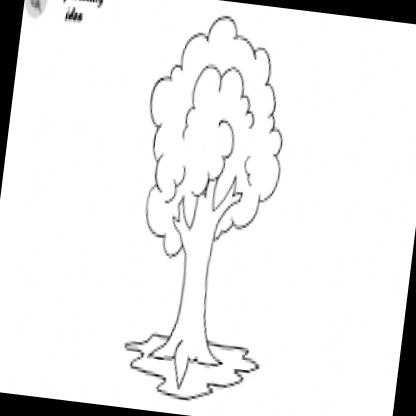branch_cut: (169, 173, 243, 257)
crown_cloud: (132, 7, 297, 266)
root_upside: (142, 324, 228, 412)
trunk_straight: (173, 252, 215, 334)
